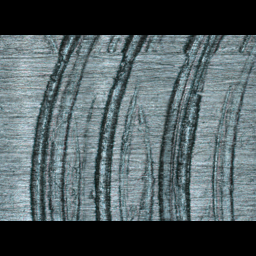d: (28, 35, 247, 220)
